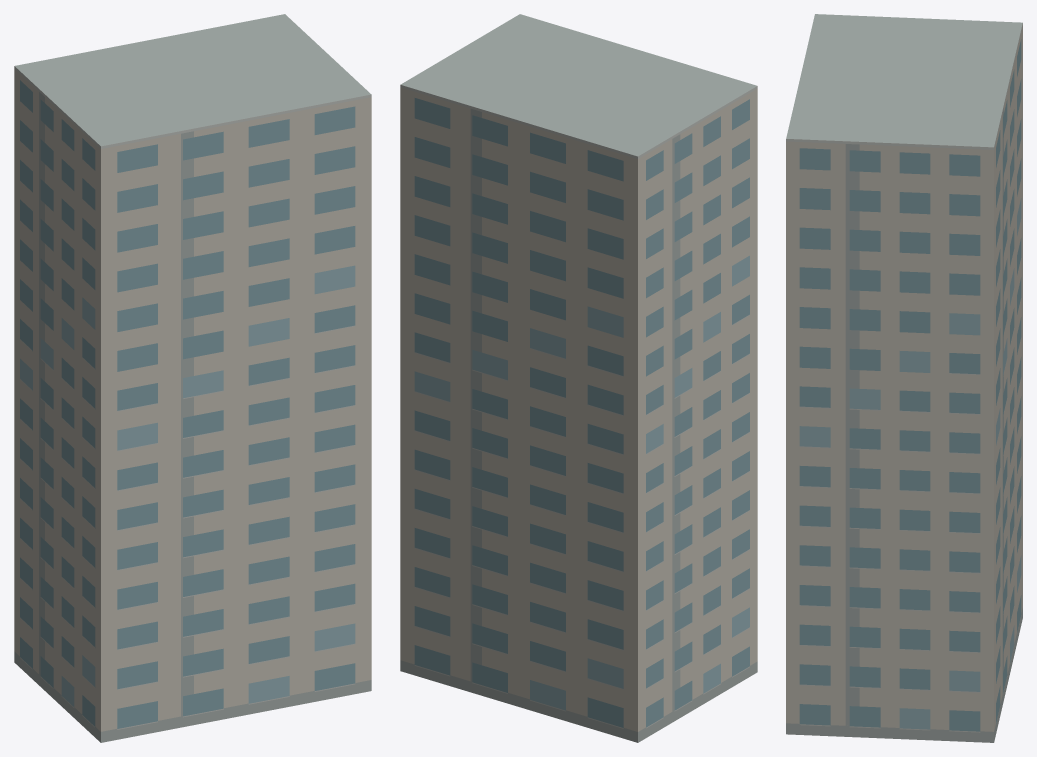
The model's file is residential-be40d2d8-b6b3-4b1e-8f53-821756fb50a9.glb.
3 renders of one model, left to right at view 1: azimuth 30°, elevation 25°; view 2: azimuth 150°, elevation 25°; view 3: azimuth 270°, elevation 25°, orthographic.
Parts seen in each view (by area): view 1: residential-be40d2d8-b6b3-4b1e-8f53-821756fb50a9.tmp; view 2: residential-be40d2d8-b6b3-4b1e-8f53-821756fb50a9.tmp; view 3: residential-be40d2d8-b6b3-4b1e-8f53-821756fb50a9.tmp.
Boxes of the visible parts, x1,y1,x2,y2 form: residential-be40d2d8-b6b3-4b1e-8f53-821756fb50a9.tmp: [14, 14, 371, 742]; residential-be40d2d8-b6b3-4b1e-8f53-821756fb50a9.tmp: [400, 14, 757, 742]; residential-be40d2d8-b6b3-4b1e-8f53-821756fb50a9.tmp: [786, 14, 1022, 742].
Size of the model in its own units: 26.43 by 55 by 19.83.
